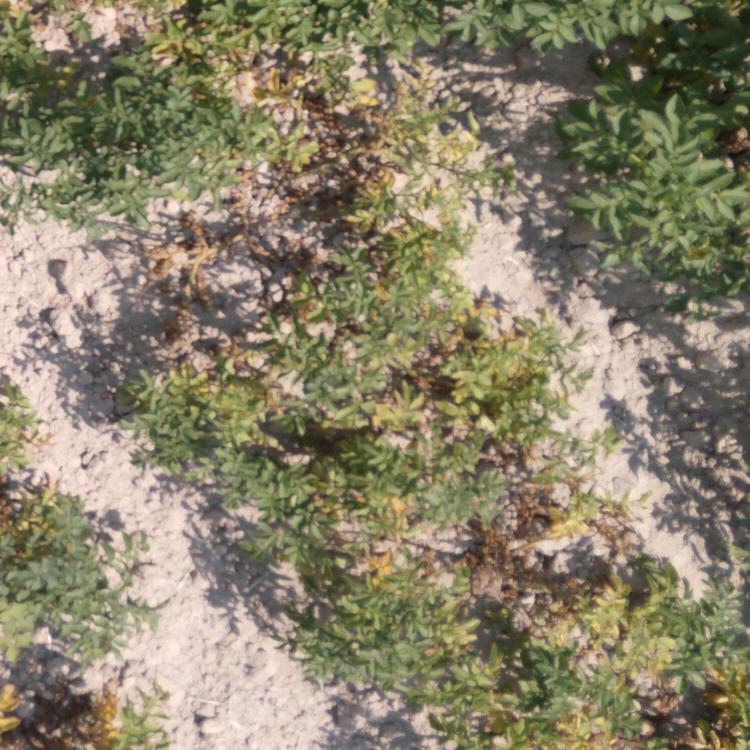healthy: (565, 78, 750, 279), (1, 9, 129, 205), (465, 1, 743, 63)
stressed: (131, 311, 580, 510), (219, 515, 750, 681), (144, 1, 455, 215), (369, 680, 750, 747), (246, 224, 515, 314), (6, 620, 167, 750), (1, 478, 137, 615), (158, 216, 220, 308), (1, 366, 49, 477)
